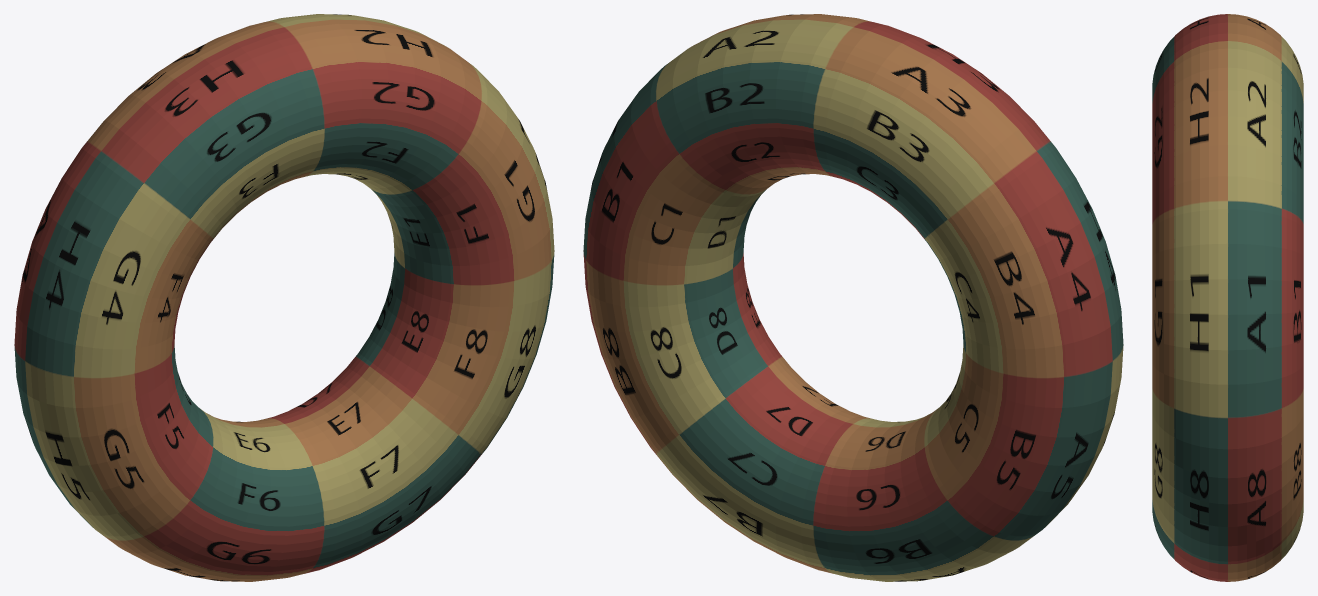
File: texture_torus_R25_r29.glb
3 views of the same model, side by side, from view 1: azimuth 30°, elevation 25°; view 2: azimuth 150°, elevation 25°; view 3: azimuth 270°, elevation 25° (orthographic). The views are drawn at different scales.
Parts seen in each view (by area): view 1: world; view 2: world; view 3: world.
Part boxes in pixels (bbox=[...]): world: bbox=[14, 14, 554, 581]; world: bbox=[583, 14, 1123, 581]; world: bbox=[1152, 14, 1303, 581].
Size of the model in its own units: 36.4 by 36.33 by 9.71.
1 material, 1 textured.
